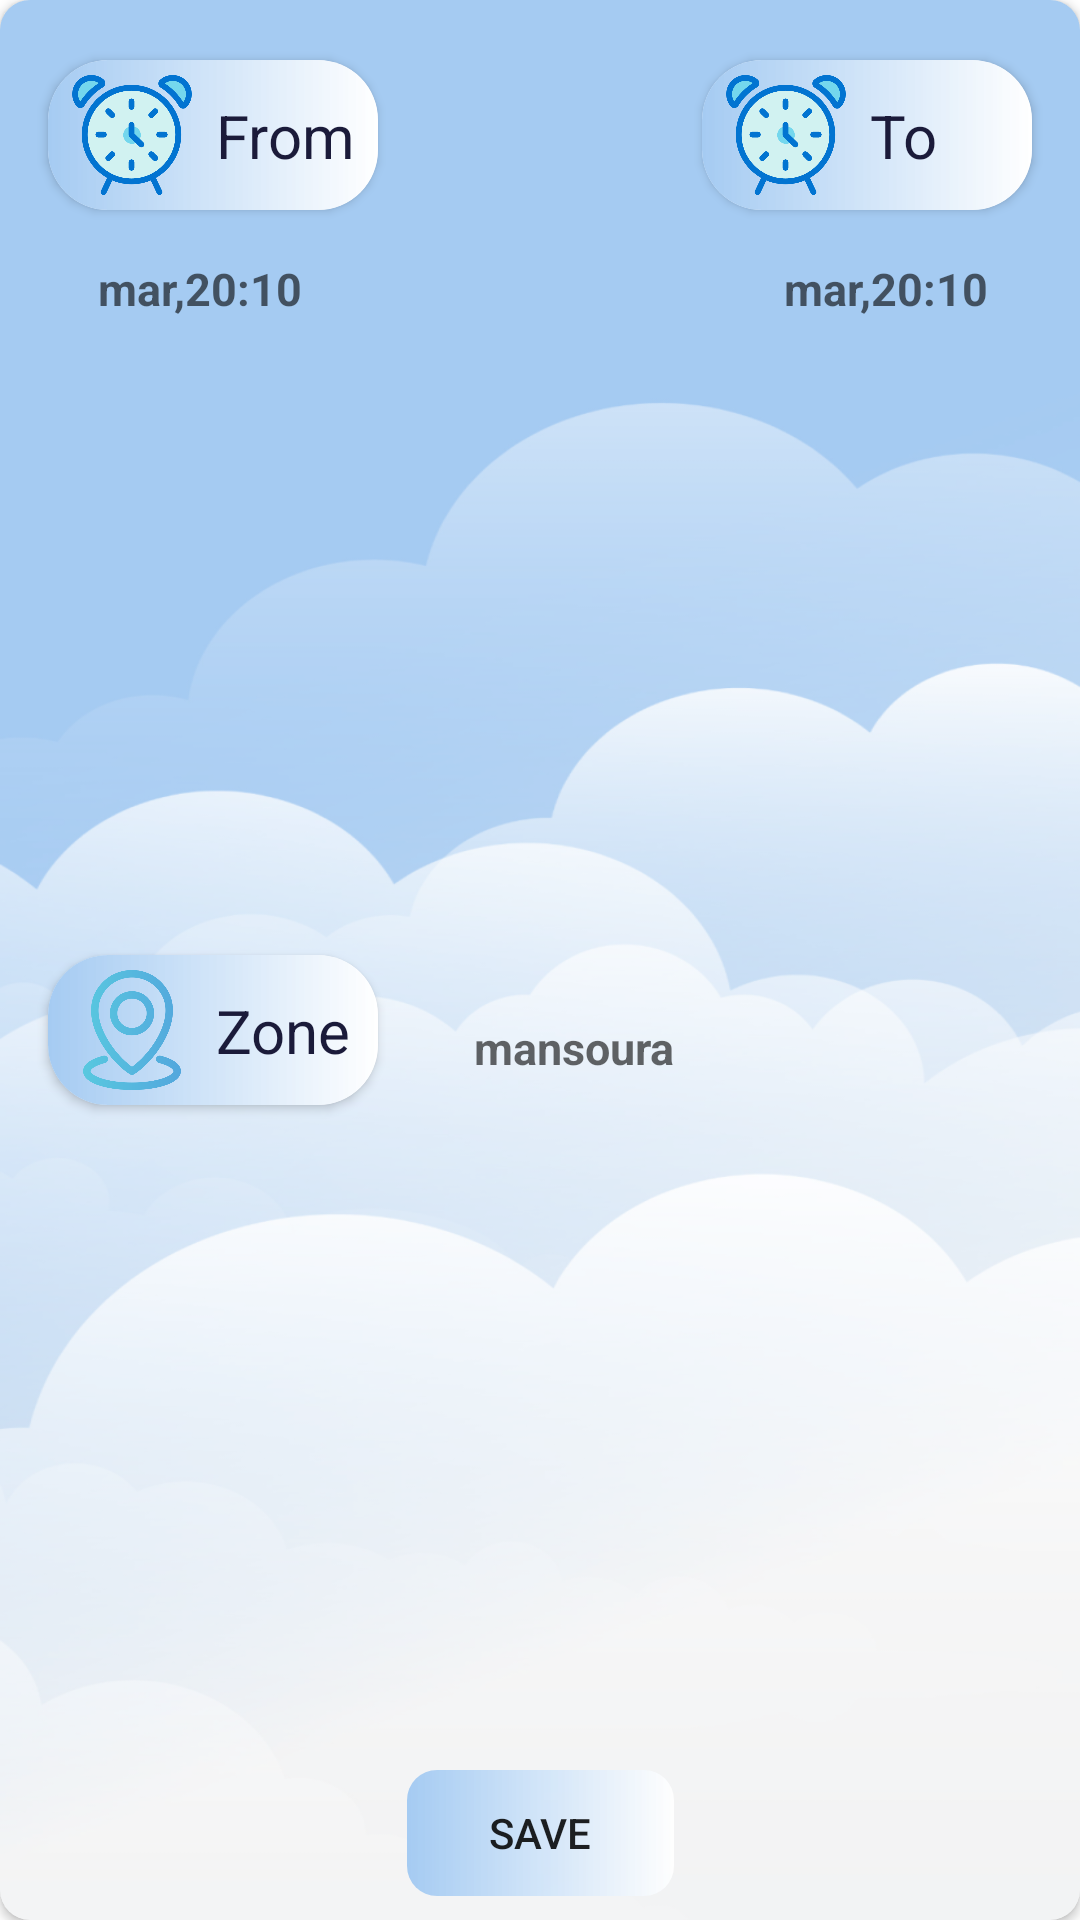

Where to tap for icons on this 1080*1920 app screen, as point (x, y):
location: point (126, 1030)
